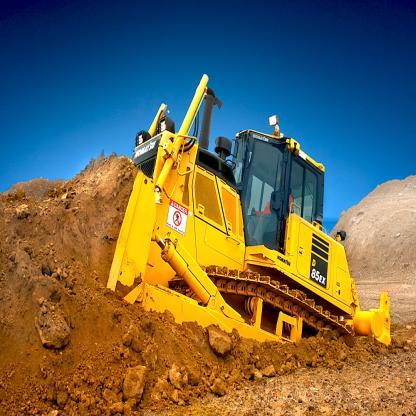bull_dozer/loader/grader: (80, 67, 391, 369)
